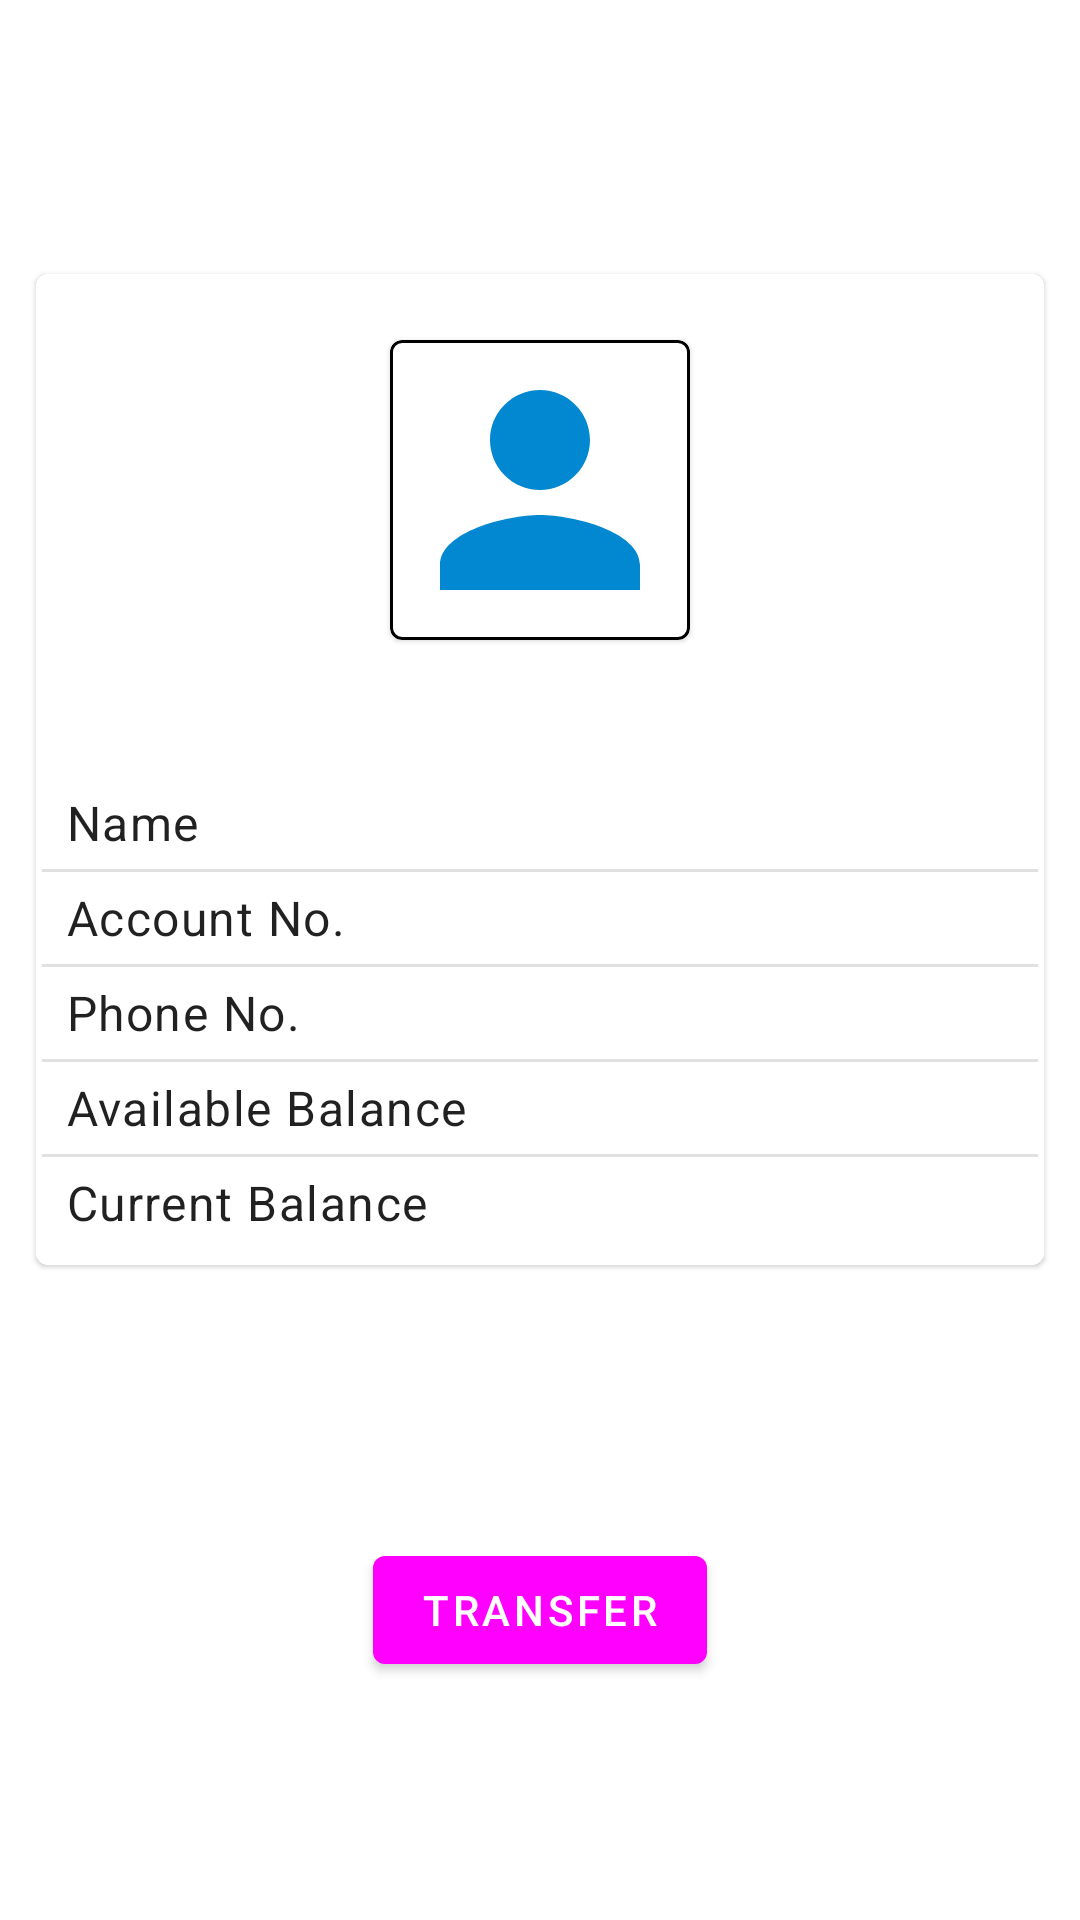

Screen size 1080px×1920px. Icon name, then its center in pixels as (x=x, y=y):
person: (x=540, y=490)
